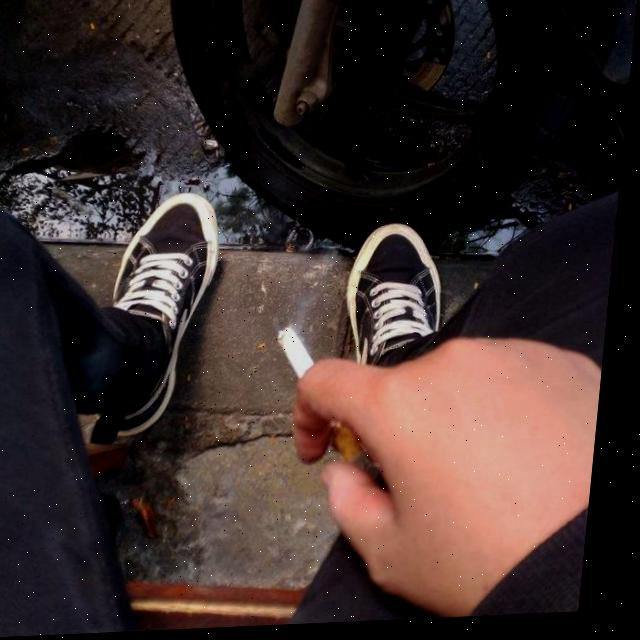cigarette: (272, 325, 376, 464)
